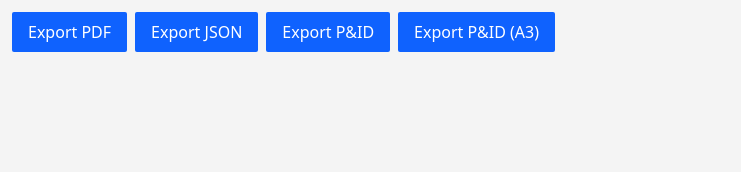
it: downloads JSON with hash in filename
The width and height of the screenshot is (741, 172).
Click the button "Export JSON" at [197, 32], box [135,12,258,52]
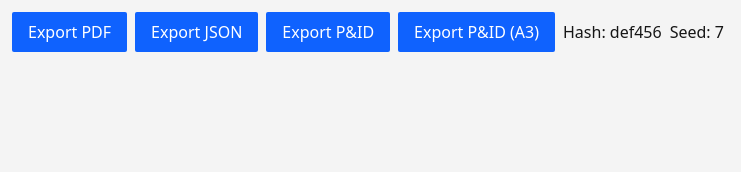
Result: the text "Hash: def456" is shown at [563,20,662,44]
Result: the text "Seed: 7" is shown at [670,20,724,44]
